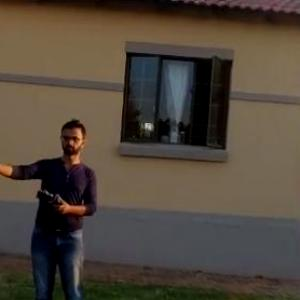follow: (0, 111, 105, 299)
